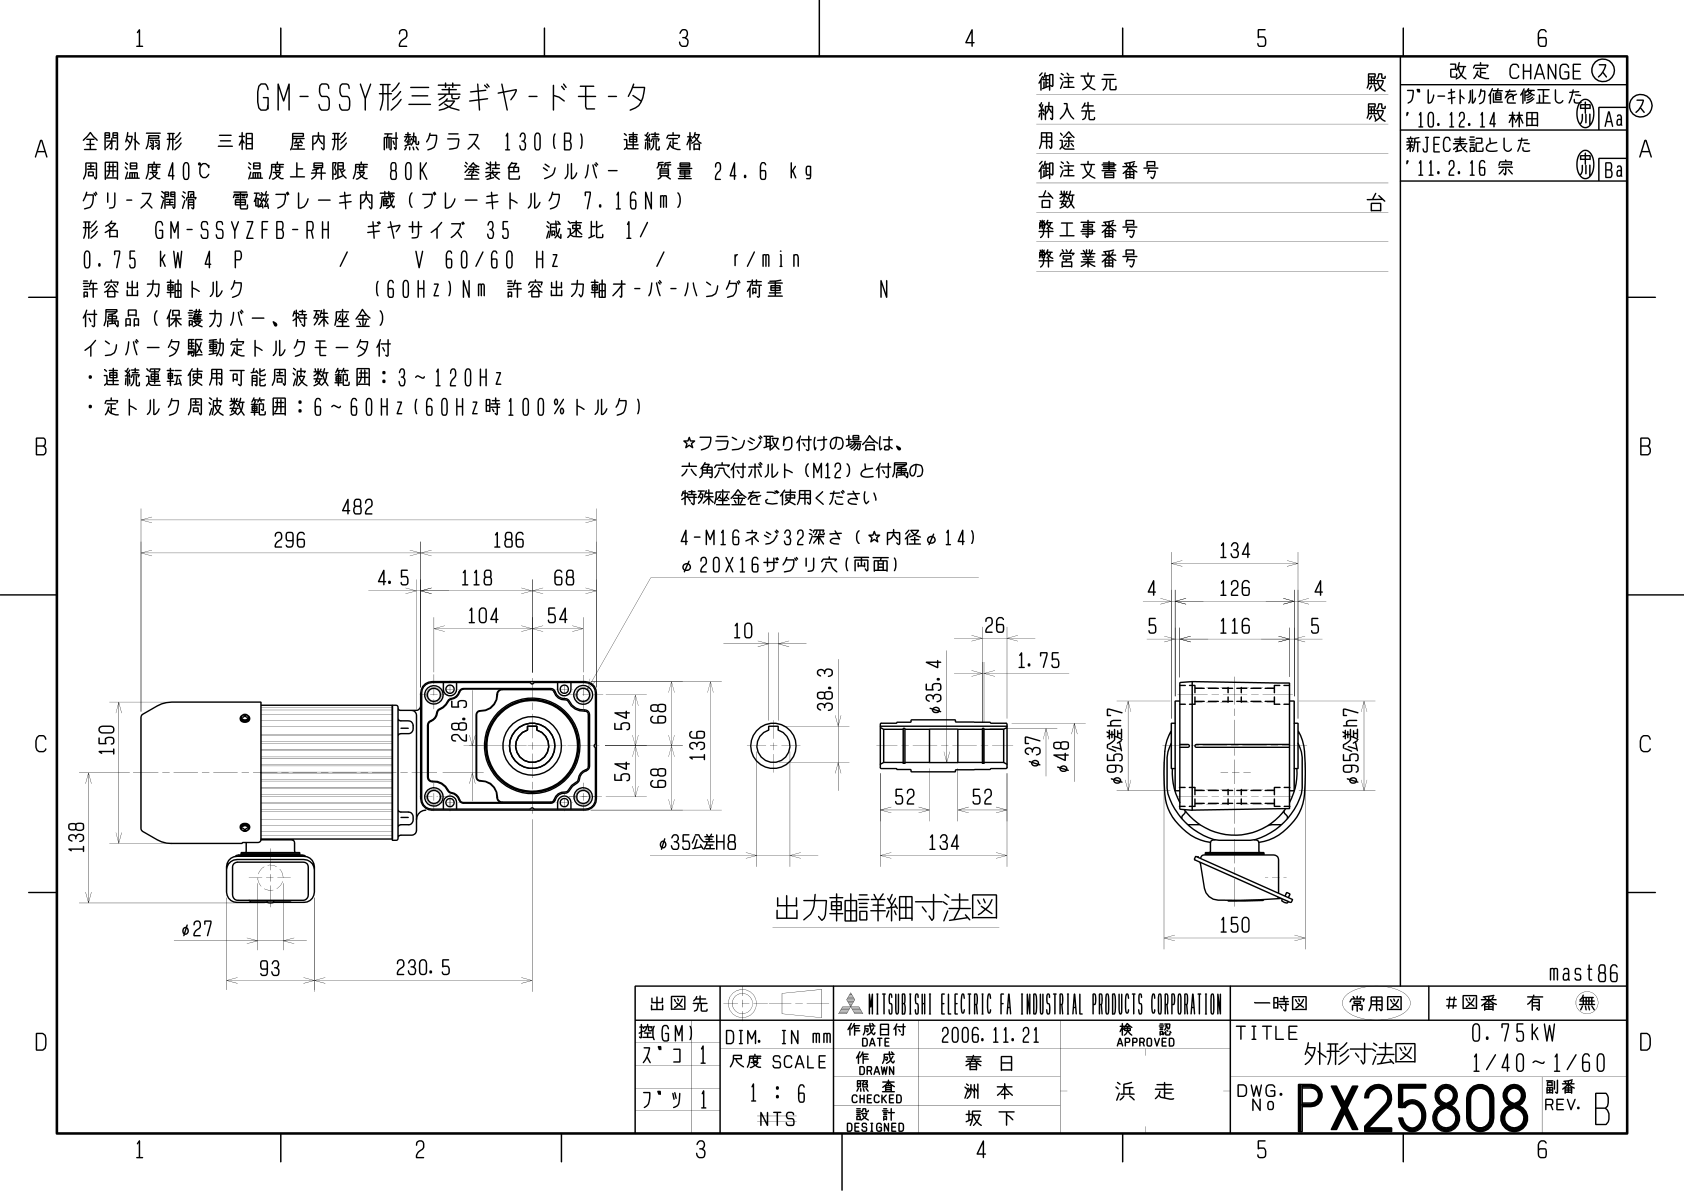GM_SSY_インバータ屋内_三相: (64, 440, 1393, 989)
